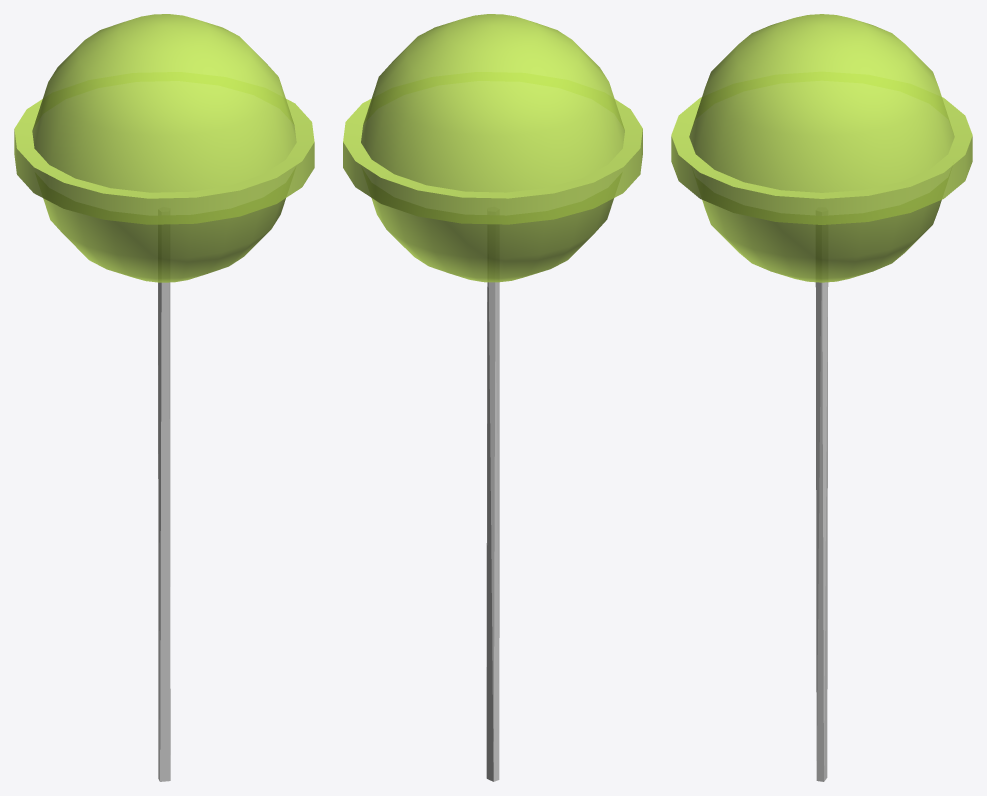
The model's file is lollipop-plant-green.glb.
3 views of the same model, side by side, from view 1: azimuth 30°, elevation 25°; view 2: azimuth 150°, elevation 25°; view 3: azimuth 270°, elevation 25° (orthographic).
Parts seen in each view (by area): view 1: lollipop-plant-green; view 2: lollipop-plant-green; view 3: lollipop-plant-green.
Part boxes in pixels (x1,y1,x2,y2): lollipop-plant-green: (14,14,314,781); lollipop-plant-green: (343,14,642,781); lollipop-plant-green: (671,14,972,781).
Size of what is drawn, in the model's own units: 0.5415 by 1.49 by 0.5415.
